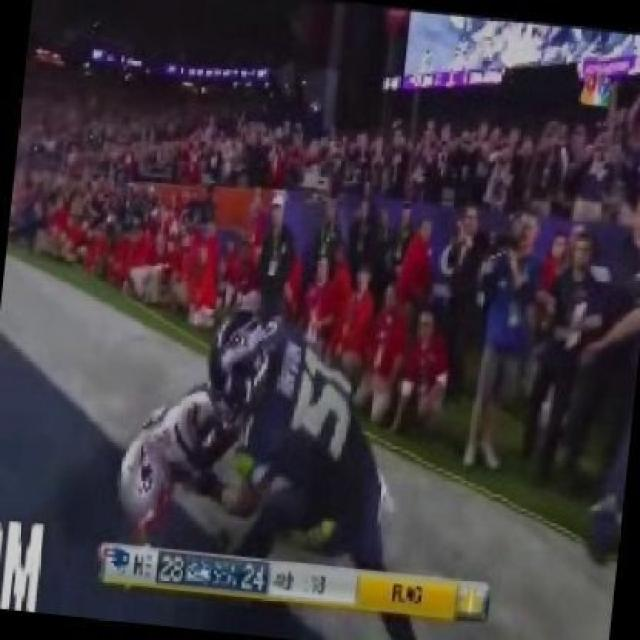fight: (77, 308, 428, 640)
